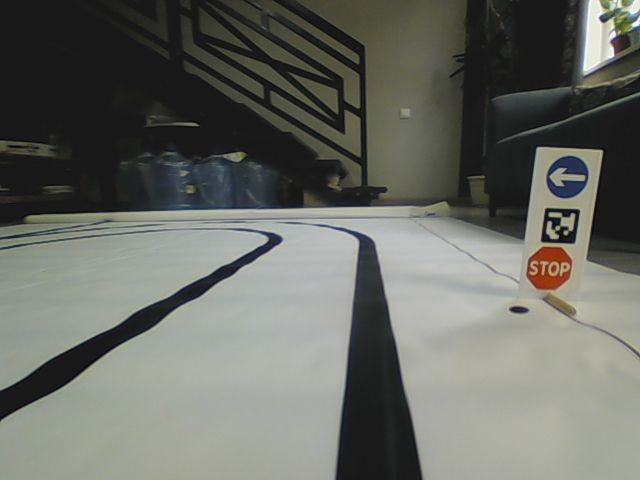Stop: (526, 246, 572, 290)
